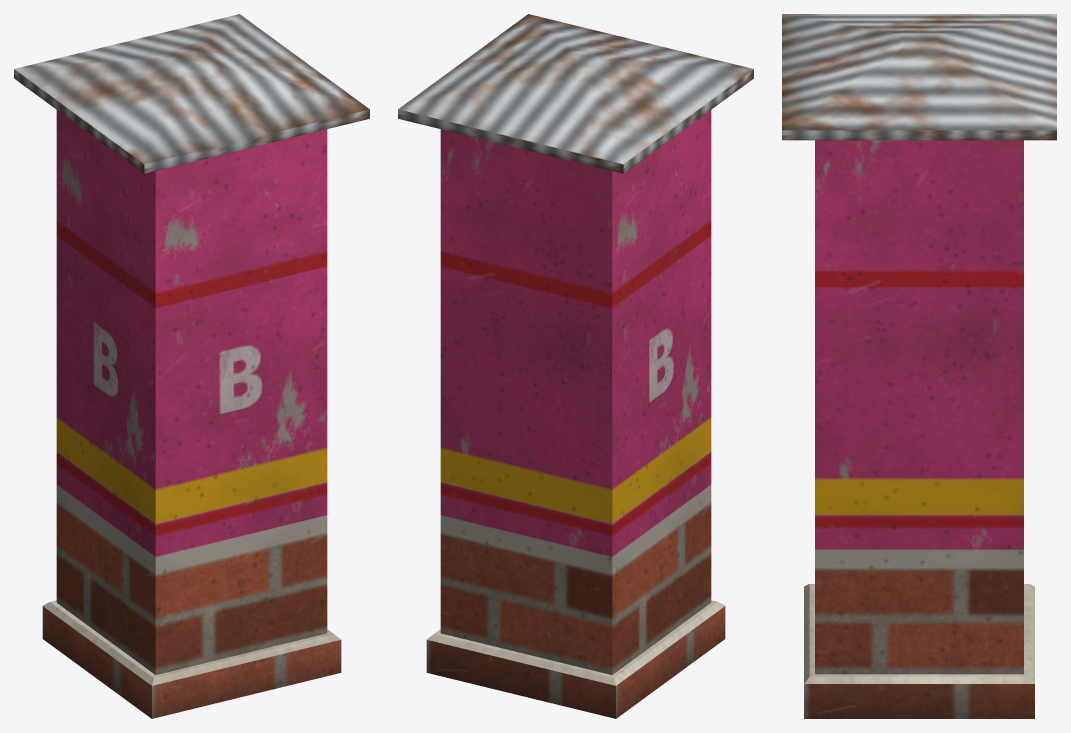
Rendered from mkt_wall_corner.glb.
3 views of the same model, side by side, from view 1: azimuth 30°, elevation 25°; view 2: azimuth 150°, elevation 25°; view 3: azimuth 270°, elevation 25° (orthographic). The views are drawn at different scales.
Visible parts, largest first — view 1: mkt_wall_corner_body; view 2: mkt_wall_corner_body; view 3: mkt_wall_corner_body.
Part boxes in pixels (x1,y1,x2,y2): mkt_wall_corner_body: (14,14,369,718); mkt_wall_corner_body: (398,14,753,718); mkt_wall_corner_body: (782,14,1056,718).
Size of the model in its own units: 0.5 by 1.26 by 0.5.
1 material, 1 textured.
